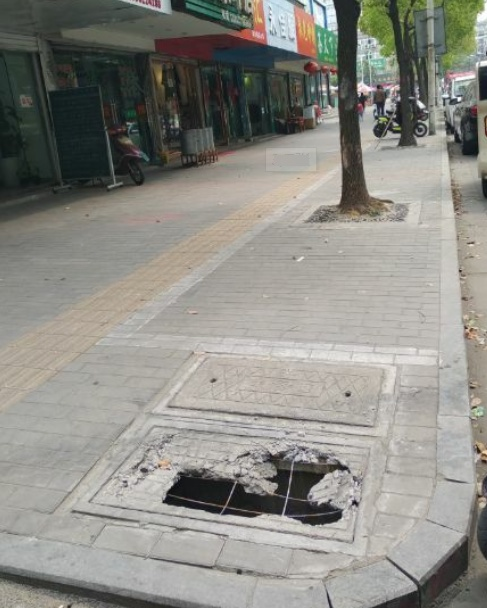broke: (73, 418, 380, 556)
good: (152, 351, 398, 437)
